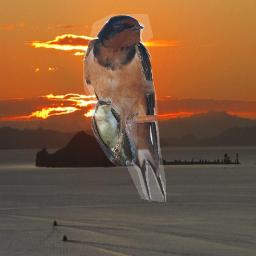Swallow: (83, 14, 166, 202), (91, 98, 137, 167)
